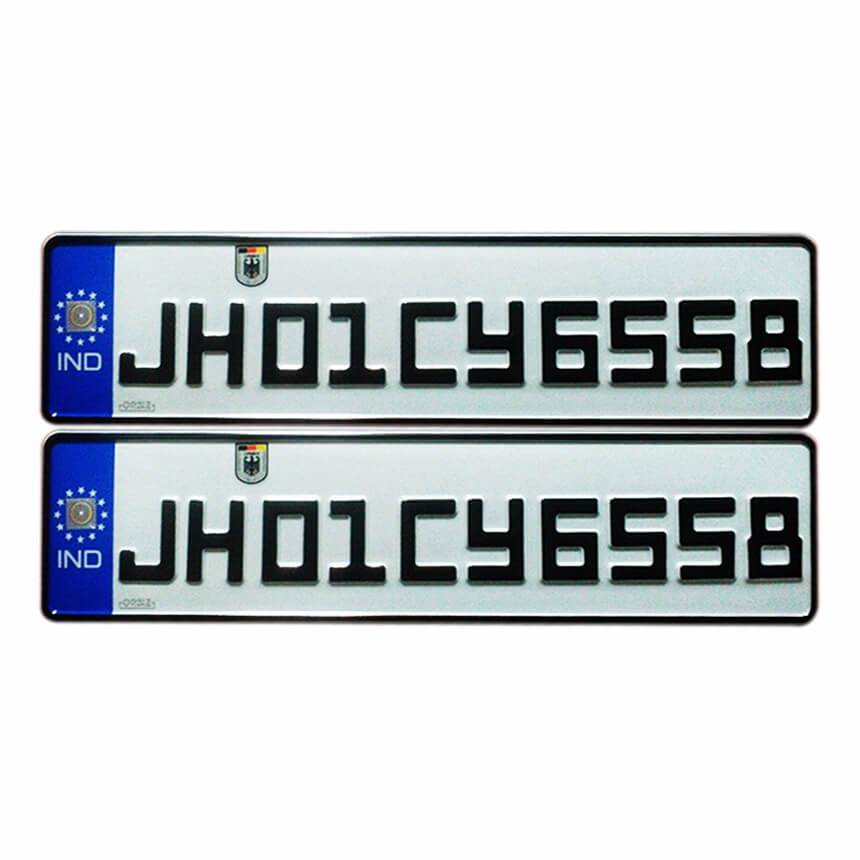number_plate: (39, 426, 818, 630), (40, 229, 820, 429)
